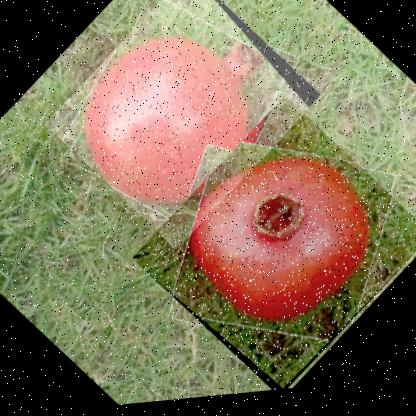pomegranate: (131, 91, 415, 405), (44, 0, 323, 264)
